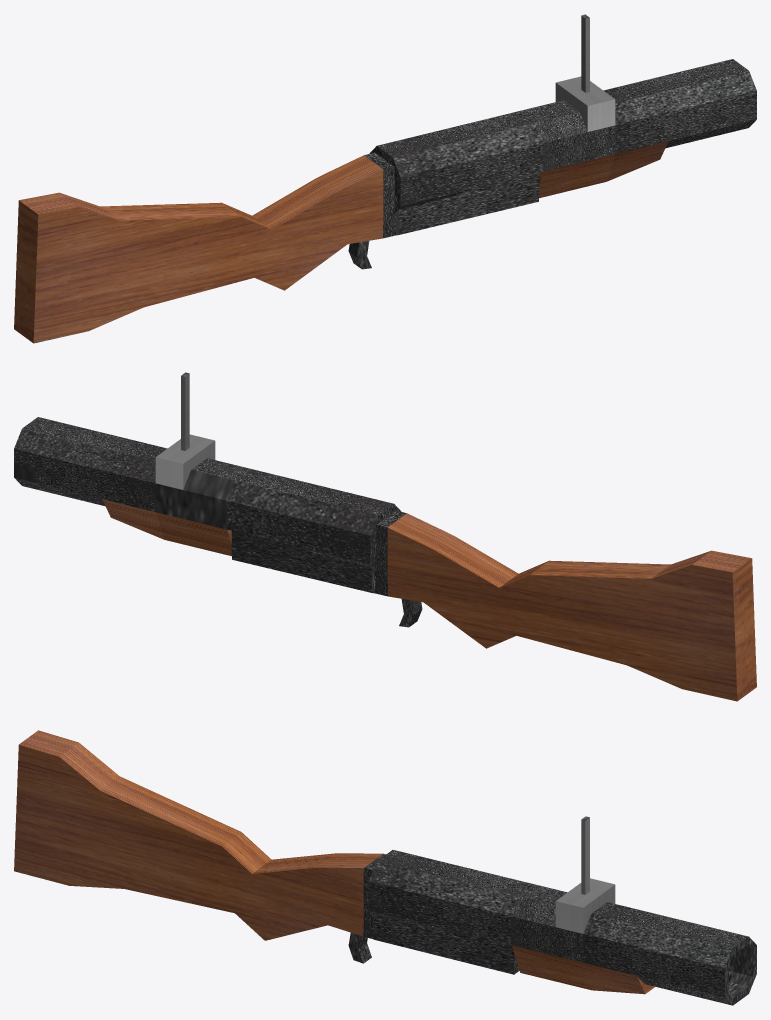
Rendered from grenadeLauncher.glb.
3 renders of one model, top to bottom at view 1: azimuth 30°, elevation 25°; view 2: azimuth 150°, elevation 25°; view 3: azimuth 330°, elevation 25°, orthographic.
Visible parts, largest first — view 1: NadeLauncher, Barrel; view 2: NadeLauncher, Barrel; view 3: NadeLauncher, Barrel.
Boxes of the visible parts, <box> form: NadeLauncher: <box>14,152,539,343</box>; Barrel: <box>369,14,756,212</box>; NadeLauncher: <box>231,510,756,701</box>; Barrel: <box>14,372,401,570</box>; NadeLauncher: <box>14,730,519,974</box>; Barrel: <box>368,816,756,1005</box>.
Bounding box in the file's own units: 4.56 × 1.19 × 0.3525.
1 material, 1 textured.
